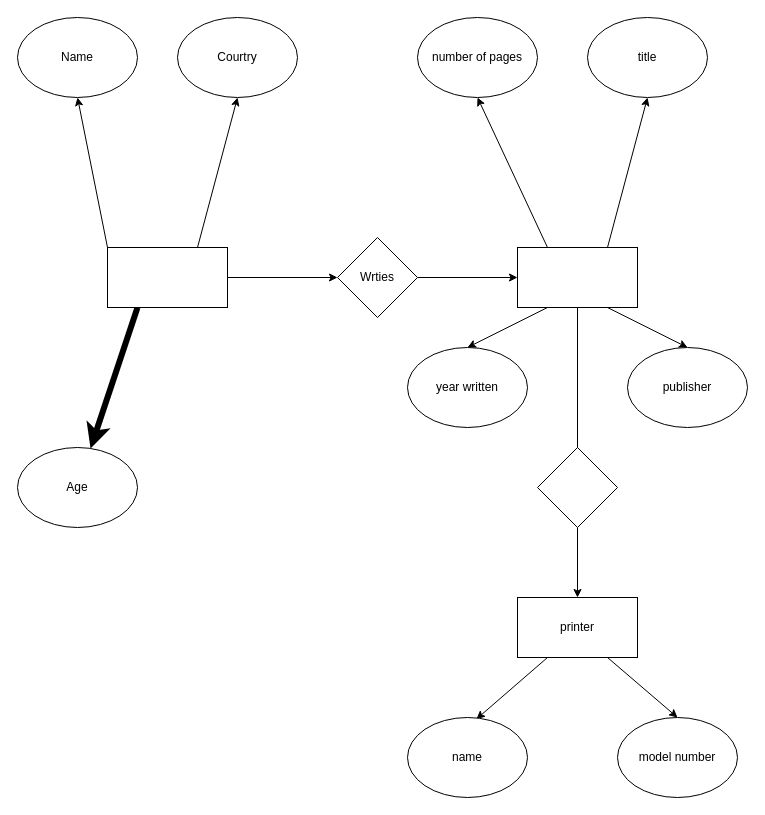
Some shapes in this 765 by 815 pixel diagram are drawn without their labels. Here are the shapes that lost their labels. From the top down, the centre of each, then its label:
At point 167,277: "Author".
At point 577,277: "Book".
At point 577,487: "printed by".
